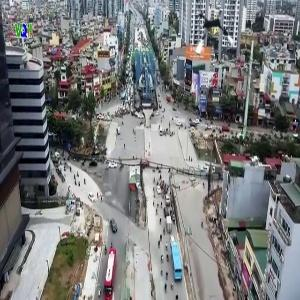drone: (187, 8, 239, 60)
